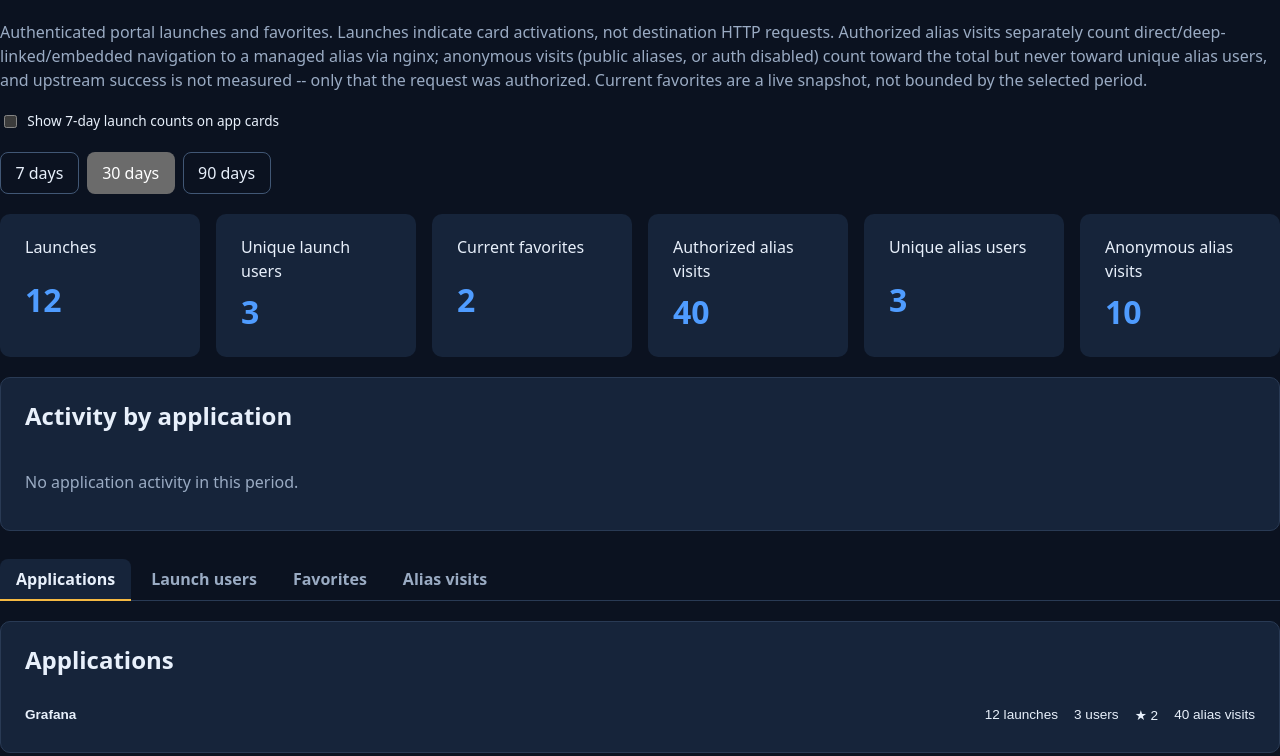
Test: AppStatisticsView › shows current favorites unaffected by the period, with a snapshot note
Expected: the text "Authorized alias visits" is shown, [673, 236, 794, 282]
Click the button "Favorites". click: [330, 580]
box: [277, 559, 383, 601]
(page scrolled)
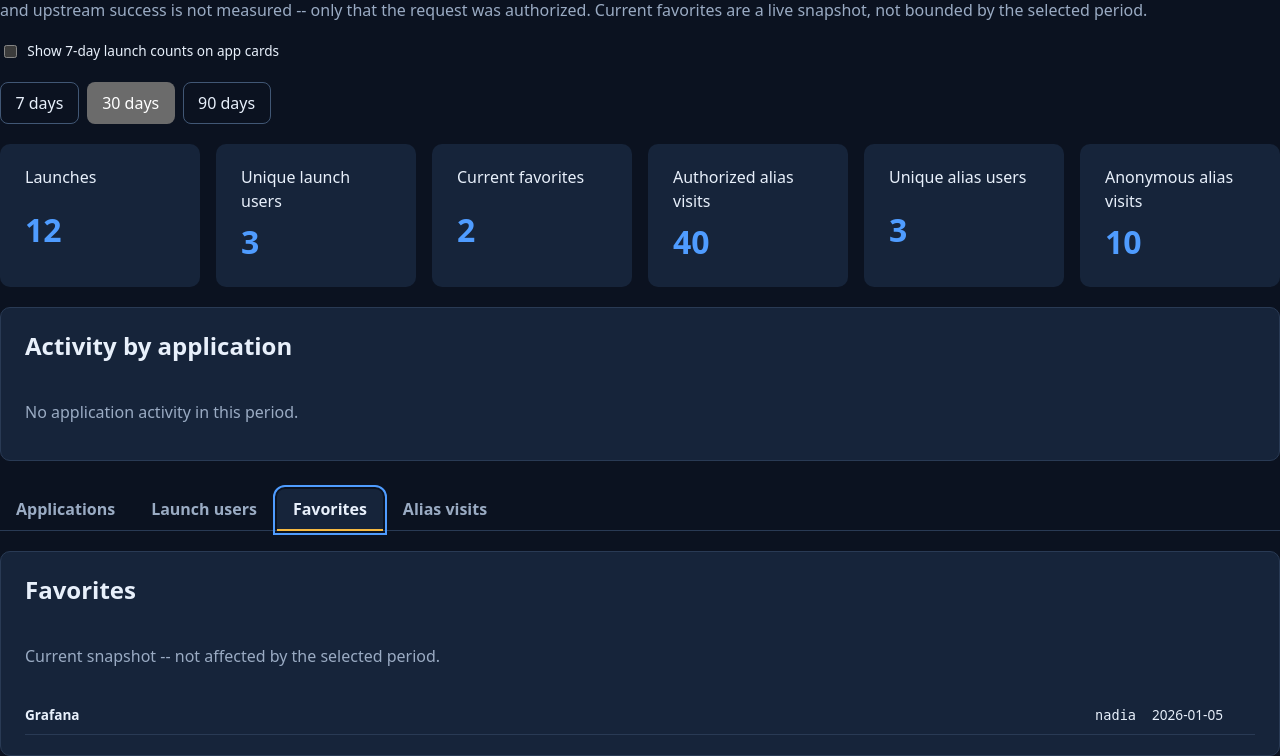
Expected: the text "Grafana" is shown, [25, 705, 80, 724]
Expected: the text "Current snapshot -- not affected by the selected period." is shown, [25, 645, 440, 667]
Expected: the text "nadia" is shown, [1095, 707, 1136, 723]
